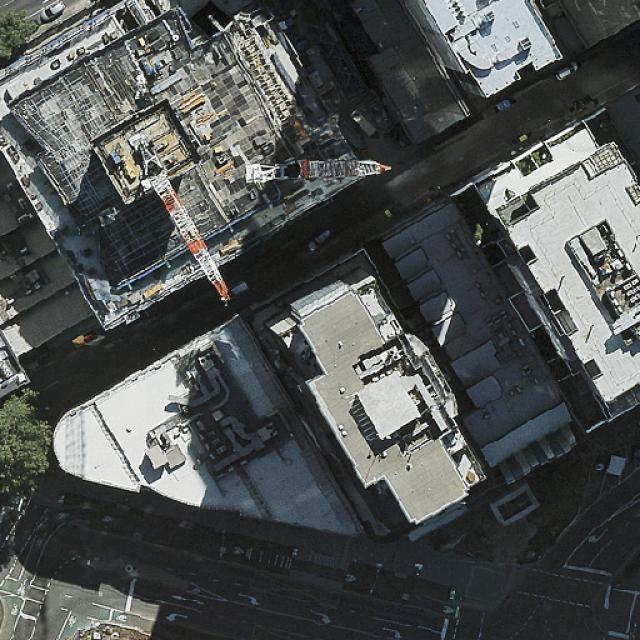Bike-Symbols: (16, 584, 26, 596), (102, 514, 115, 523), (345, 572, 356, 582), (68, 614, 77, 626), (10, 603, 18, 616), (115, 614, 128, 622), (36, 536, 44, 548), (233, 546, 244, 554), (58, 512, 69, 519)
